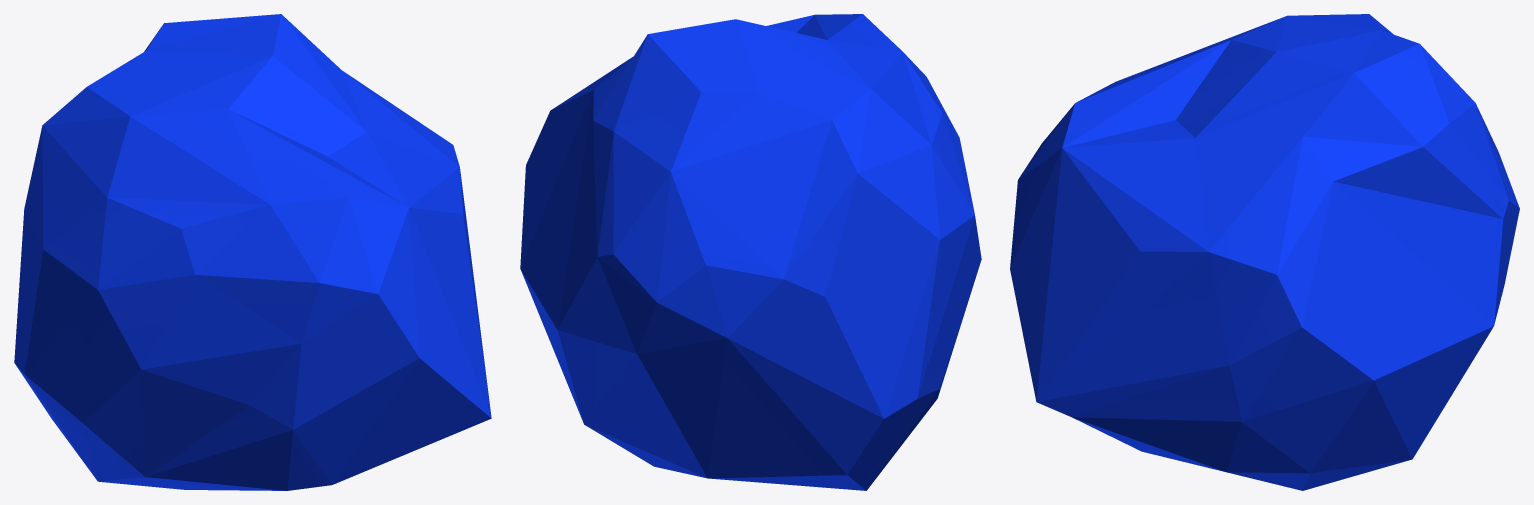
Rendered from SM_emissive_rock_04.fbx.
The picture shows the model from 3 angles, left to right: view 1: azimuth 30°, elevation 25°; view 2: azimuth 150°, elevation 25°; view 3: azimuth 270°, elevation 25°; orthographic projection. The views are drawn at different scales.
Visible parts, largest first — view 1: emissive_rock_04; view 2: emissive_rock_04; view 3: emissive_rock_04.
Part boxes in pixels (x1,y1,x2,y2): emissive_rock_04: (14, 14, 491, 490); emissive_rock_04: (520, 14, 981, 490); emissive_rock_04: (1010, 14, 1519, 490).
Size of the model in its own units: 89.9 by 87.69 by 97.1.
